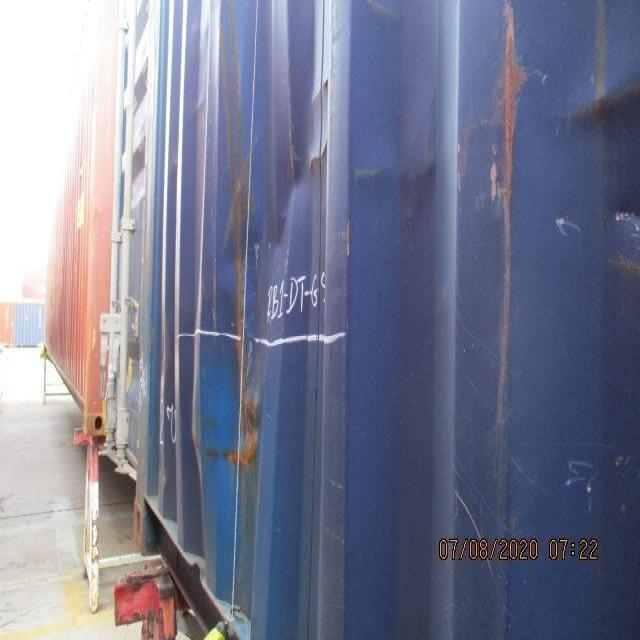Dent: (178, 75, 335, 515)
